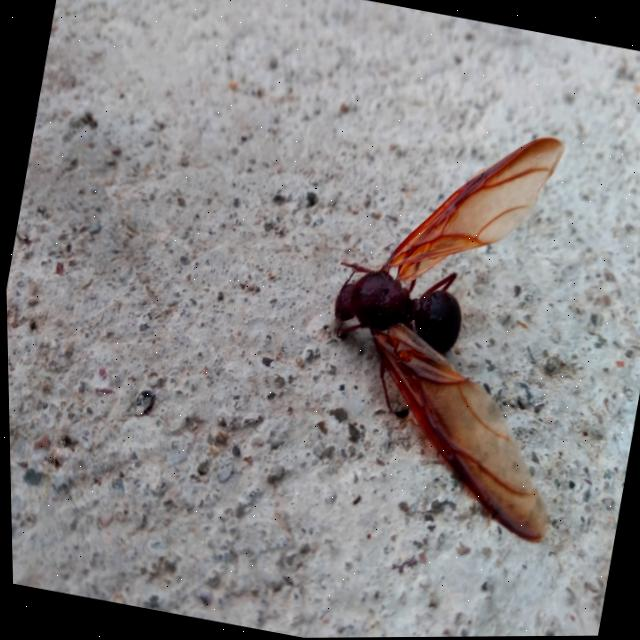Dead-Female-Alate: (286, 102, 619, 552)
